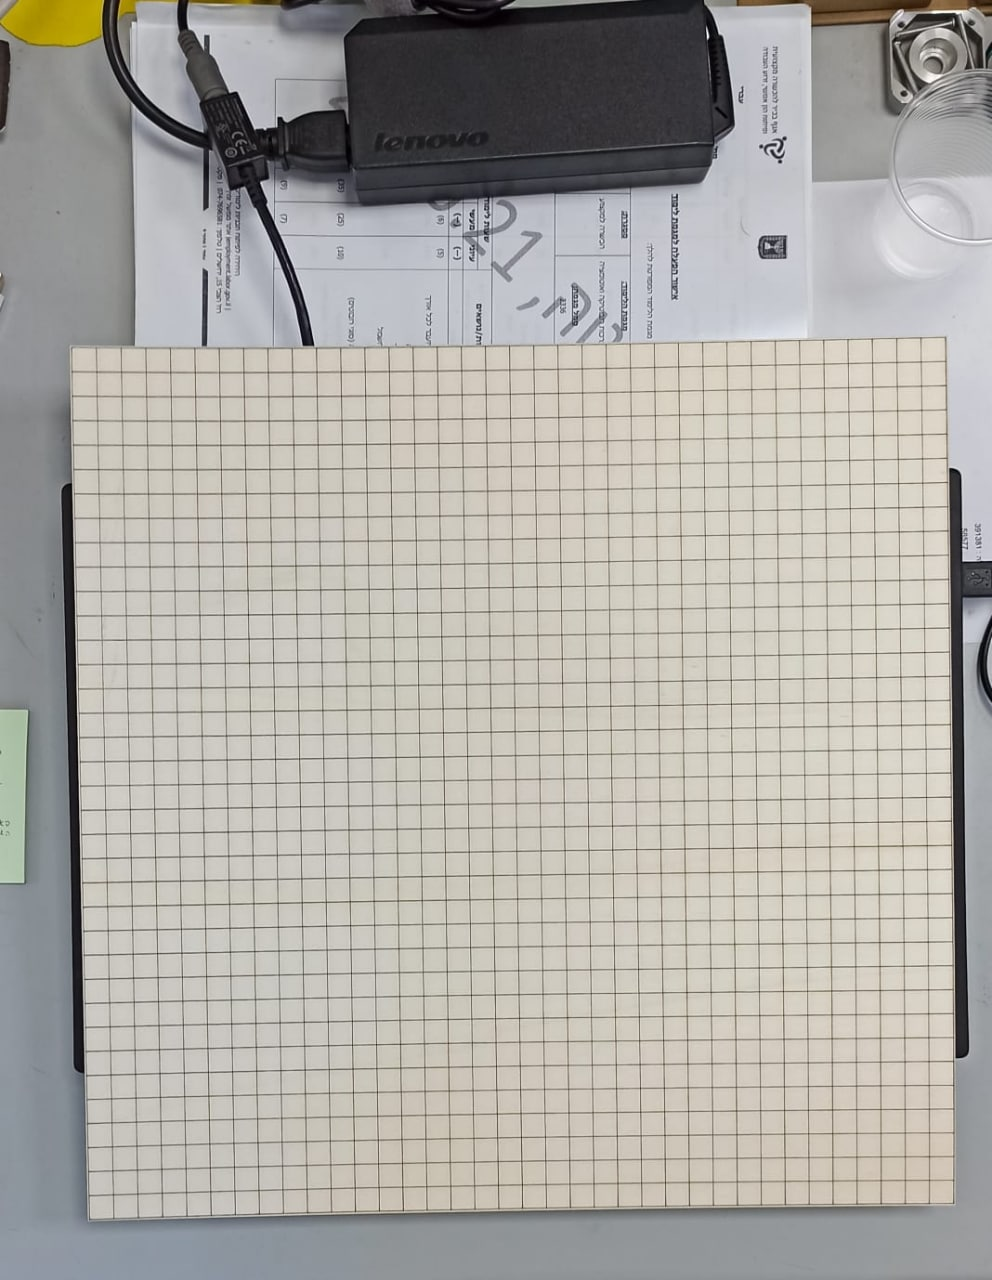grid: (47, 329, 962, 1218)
